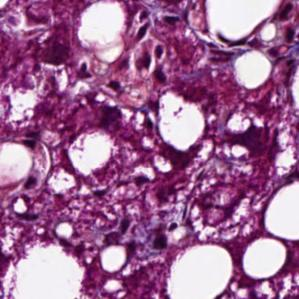inflammation: (99, 217, 182, 253), (117, 43, 169, 85)
